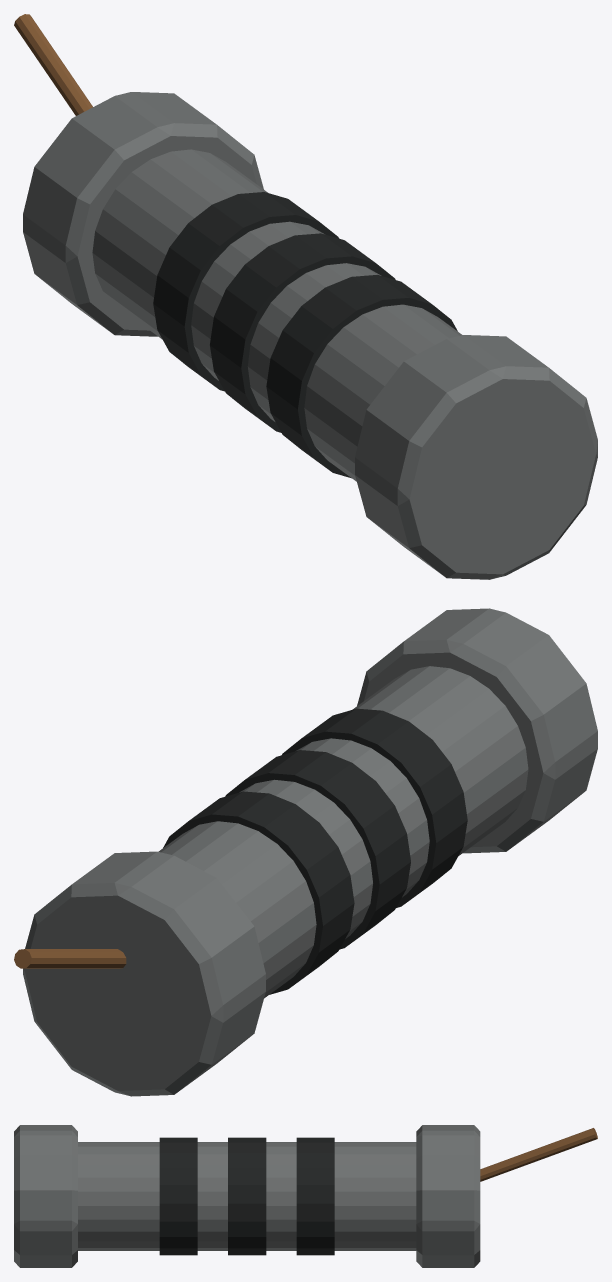
Rendered from pipe_bomb.glb.
3 views of the same model, one above another, from view 1: azimuth 30°, elevation 25°; view 2: azimuth 150°, elevation 25°; view 3: azimuth 270°, elevation 25° (orthographic). The views are drawn at different scales.
Parts seen in each view (by area): view 1: pipe_bomb; view 2: pipe_bomb; view 3: pipe_bomb.
Part boxes in pixels (x1,y1,x2,y2): pipe_bomb: (14, 14, 597, 579); pipe_bomb: (14, 608, 597, 1096); pipe_bomb: (14, 1125, 597, 1267).
Bounding box in the file's own units: 0.0919 × 0.0953 × 0.3832.
